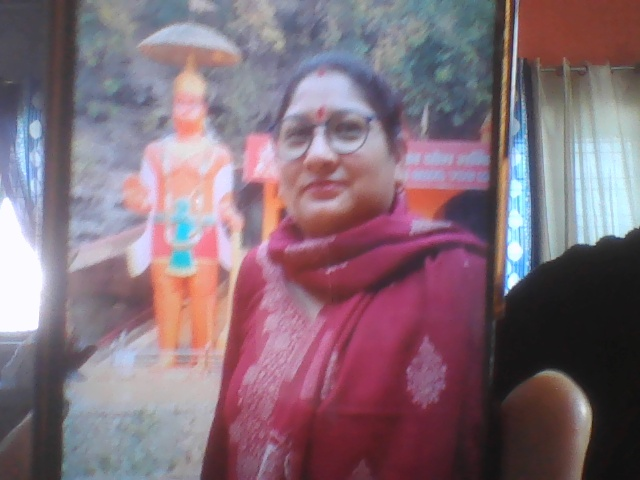fake: (264, 31, 411, 240)
